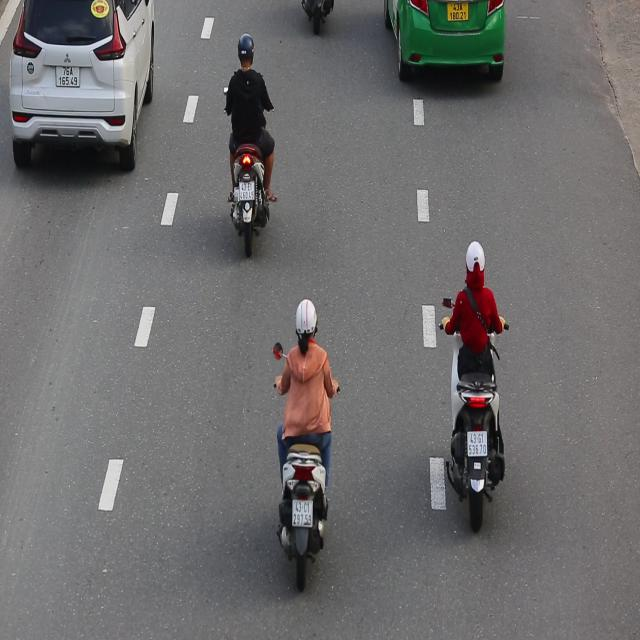motorbike: (440, 233, 514, 534), (270, 293, 341, 593), (219, 32, 276, 259)
